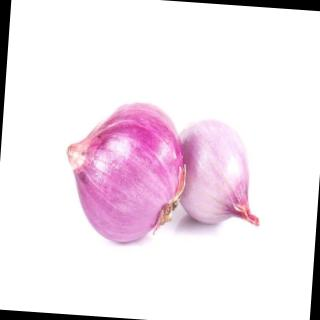Bawang Merah: (58, 95, 192, 250), (172, 116, 269, 232)
